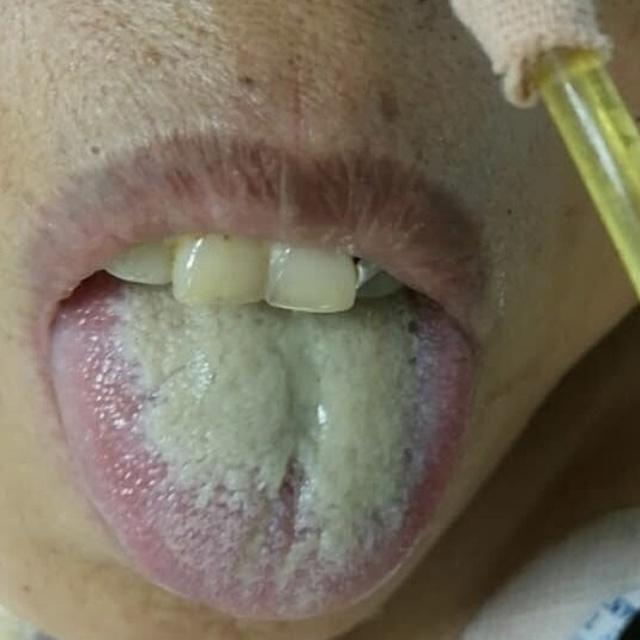huangtaishe: (50, 306, 479, 625)
pangdashe: (50, 305, 479, 624)
